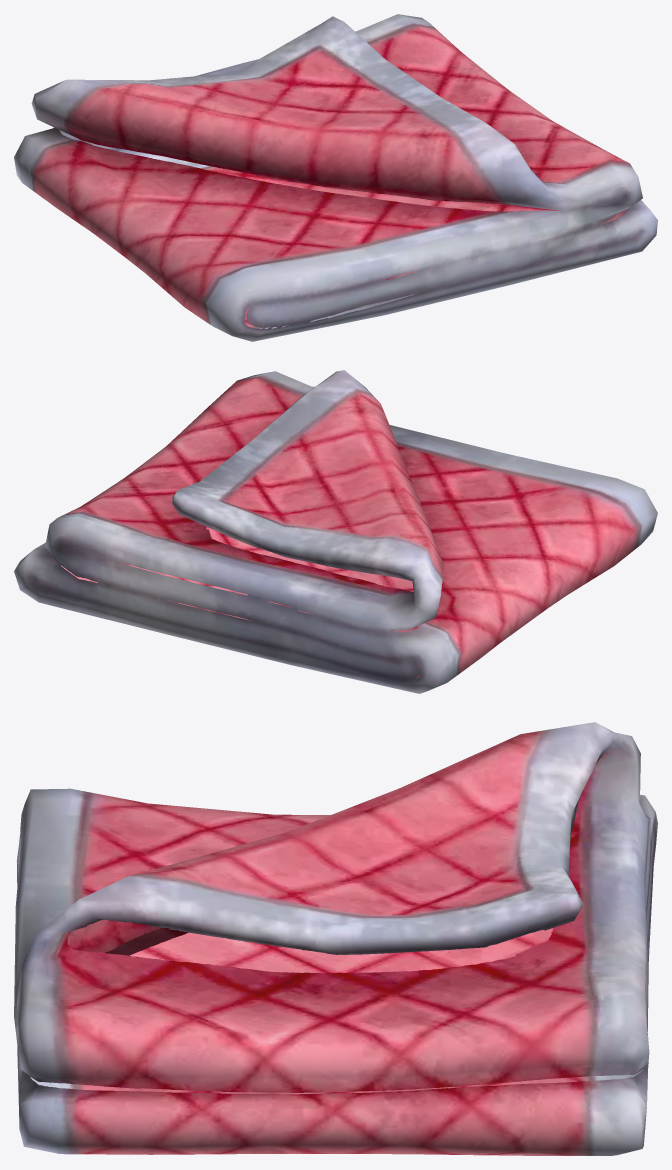
The picture shows the model from 3 angles, top to bottom: view 1: azimuth 30°, elevation 25°; view 2: azimuth 150°, elevation 25°; view 3: azimuth 270°, elevation 25°; orthographic projection. The views are drawn at different scales.
Parts seen in each view (by area): view 1: SM_Padded_Cloth_01_LOD0; view 2: SM_Padded_Cloth_01_LOD0; view 3: SM_Padded_Cloth_01_LOD0.
Part boxes in pixels (box(x1,y1,x2,y2)): SM_Padded_Cloth_01_LOD0: box(14, 14, 657, 341); SM_Padded_Cloth_01_LOD0: box(14, 370, 657, 693); SM_Padded_Cloth_01_LOD0: box(14, 722, 657, 1155).
Bounding box in the file's own units: 0.5574 × 0.1525 × 0.4905.
1 material, 1 textured.
